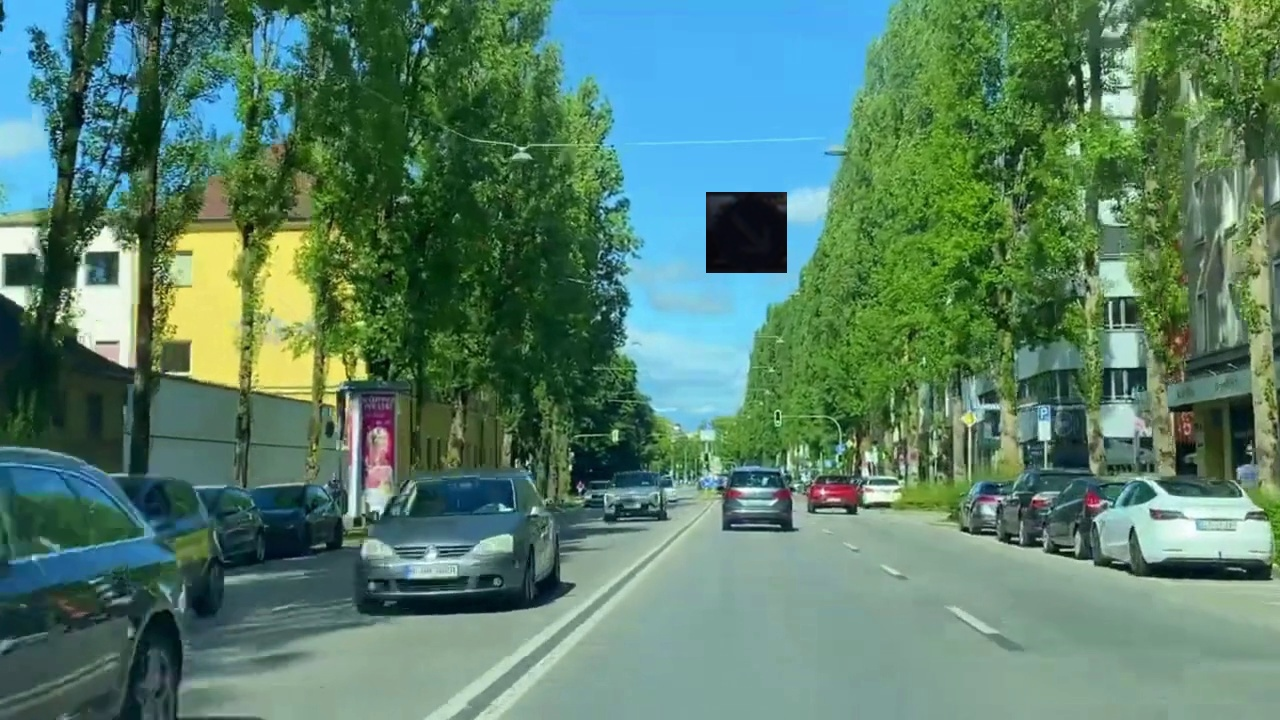Keep right: (706, 192, 787, 273)
